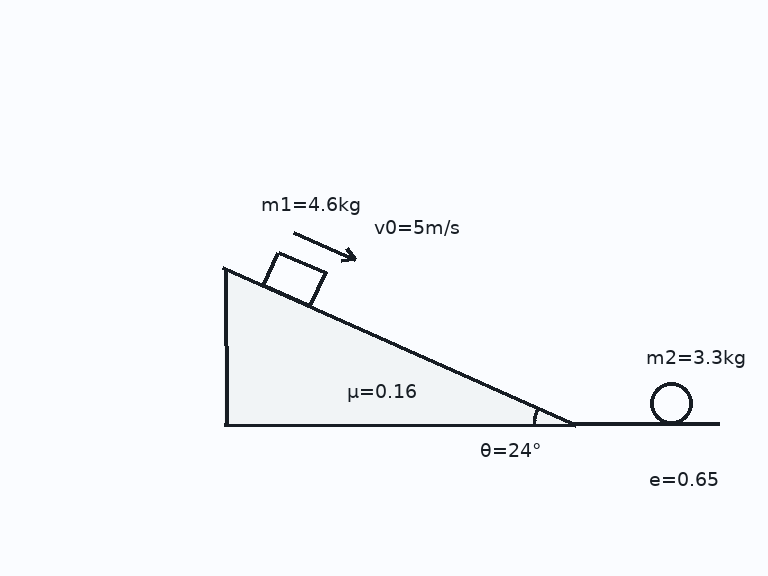ball: (648, 380, 694, 426)
block: (261, 249, 327, 308)
ramp: (222, 266, 576, 426)
